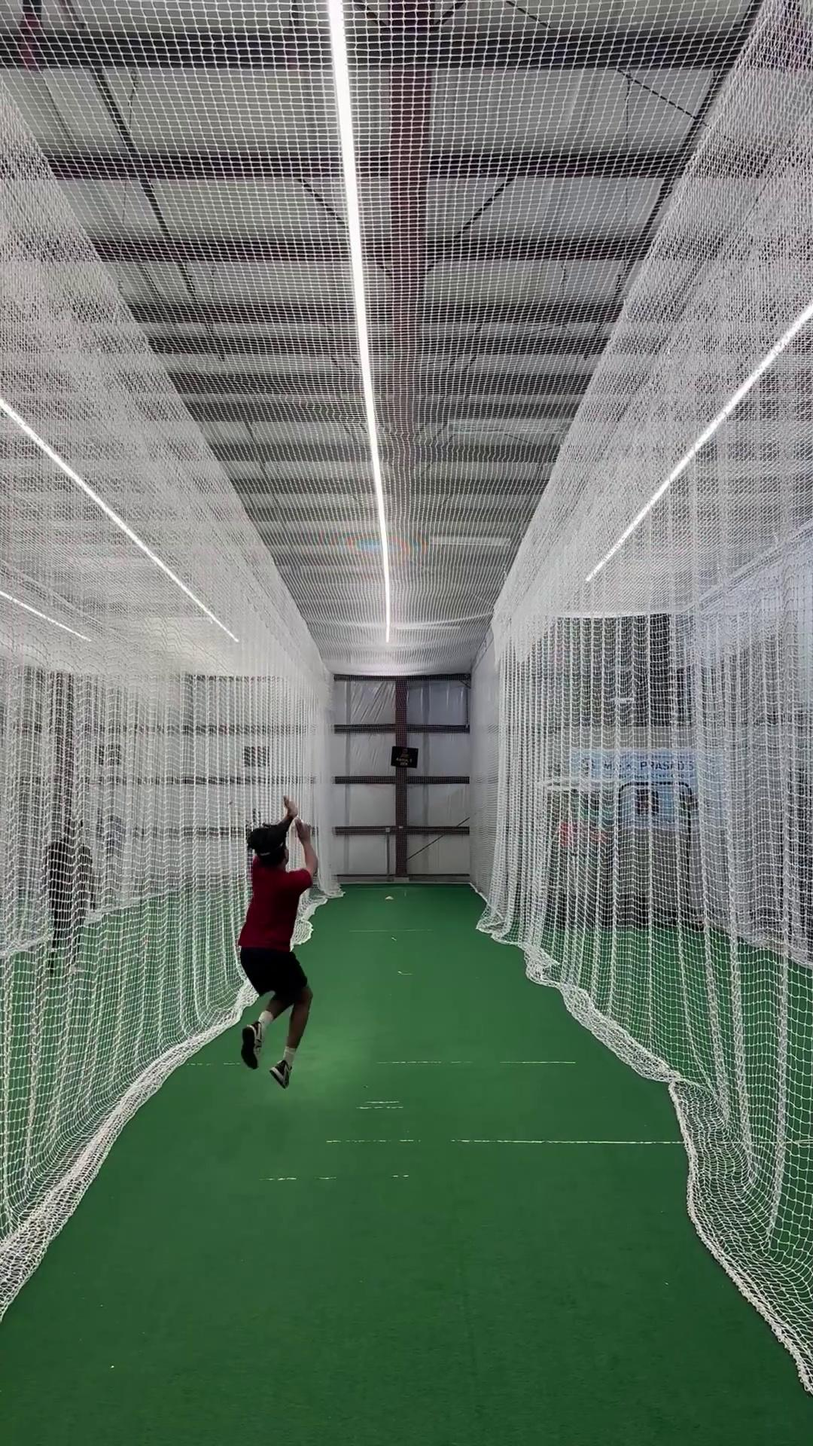ball: (289, 815, 313, 834)
